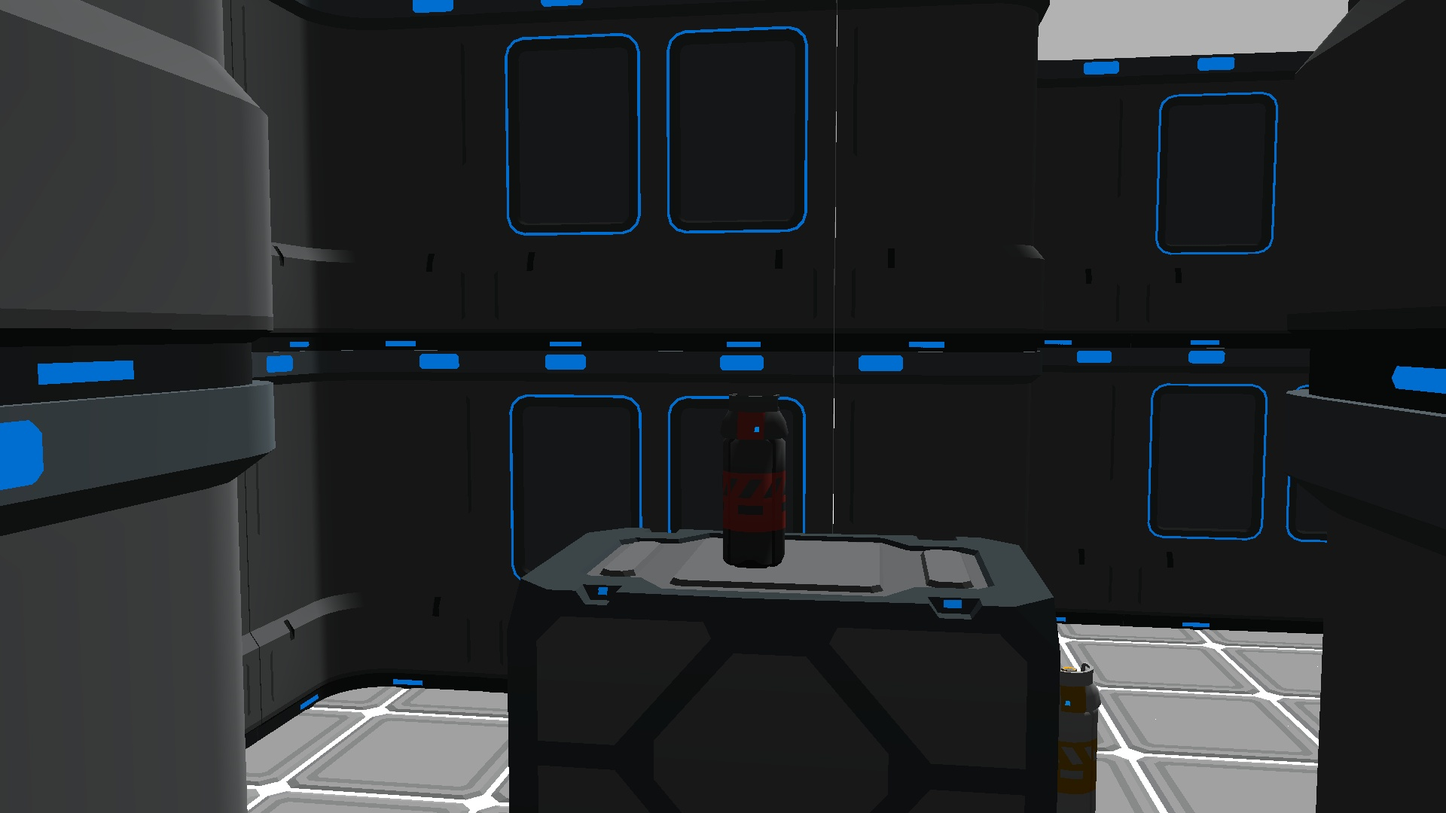red barrel: (723, 393, 785, 568)
yellow barrel: (1057, 662, 1101, 813)
